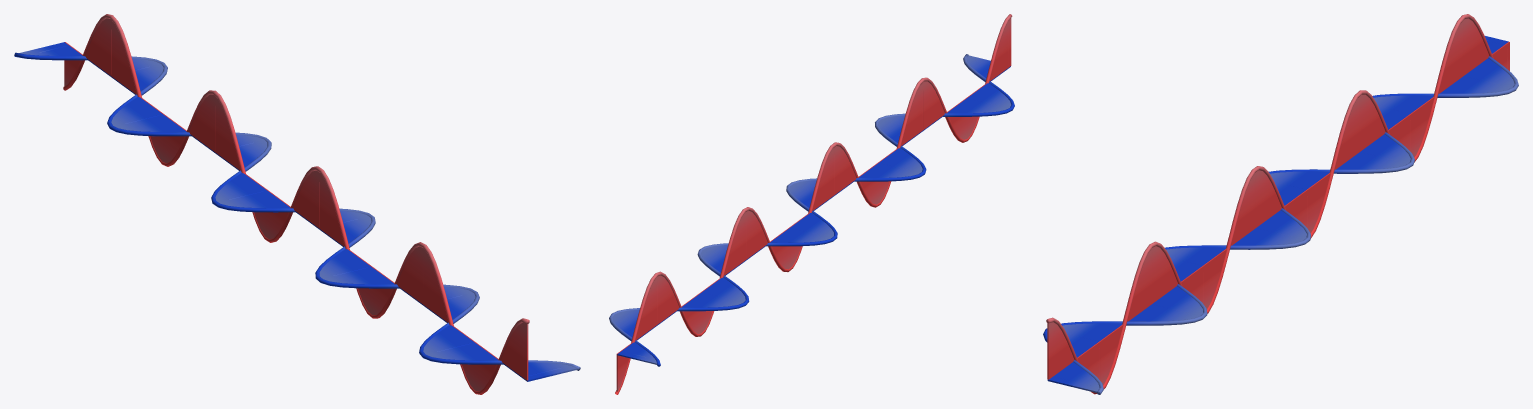
The model's file is ultraviolet.glb.
3 views of the same model, side by side, from view 1: azimuth 30°, elevation 25°; view 2: azimuth 150°, elevation 25°; view 3: azimuth 330°, elevation 25° (orthographic). The views are drawn at different scales.
Parts seen in each view (by area): view 1: ultra violet.001; view 2: ultra violet.001; view 3: ultra violet.001.
Boxes of the visible parts, x1=… form: ultra violet.001: x1=14, y1=14, x2=580, y2=394; ultra violet.001: x1=609, y1=14, x2=1014, y2=394; ultra violet.001: x1=1043, y1=14, x2=1518, y2=394.
Size of the model in its own units: 0.6784 by 0.6784 by 5.09.
Materials: 4 (4 with a texture image).
